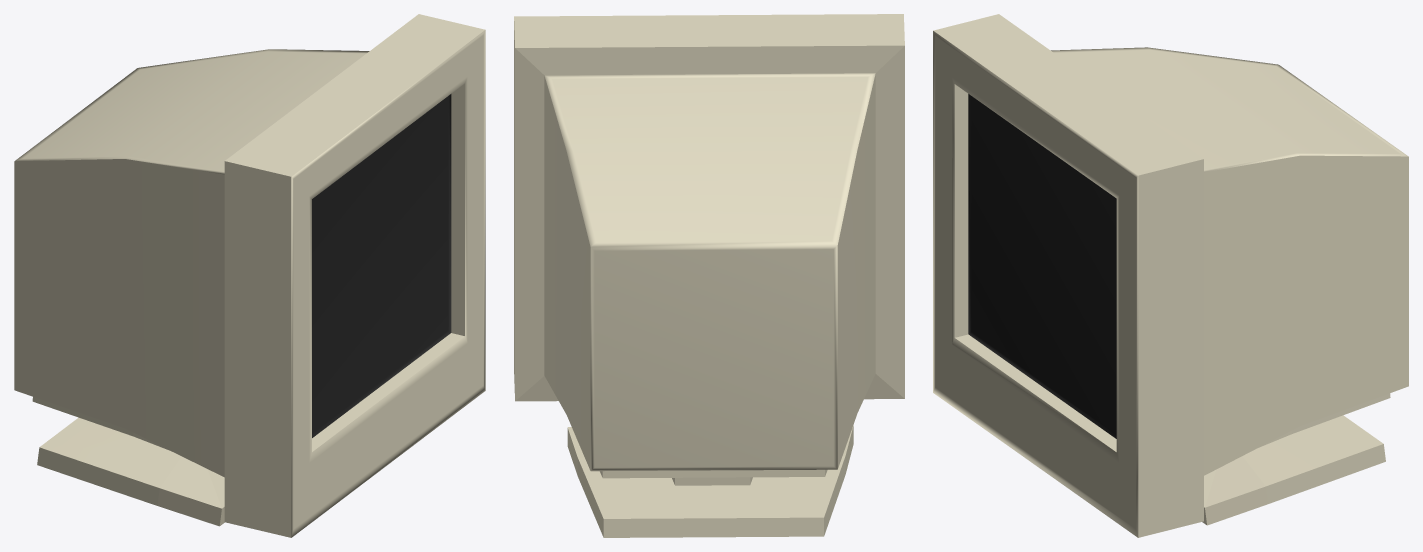
Rendered from OldPC.fbx.
3 views of the same model, side by side, from view 1: azimuth 30°, elevation 25°; view 2: azimuth 150°, elevation 25°; view 3: azimuth 270°, elevation 25° (orthographic). The views are drawn at different scales.
Parts seen in each view (by area): view 1: Cube.005; view 2: Cube.005; view 3: Cube.005.
Part boxes in pixels (bbox=[...]): Cube.005: bbox=[14, 14, 485, 537]; Cube.005: bbox=[514, 14, 904, 537]; Cube.005: bbox=[933, 14, 1408, 537].
Bounding box in the file's own units: 0.4806 × 0.4493 × 0.4922.
